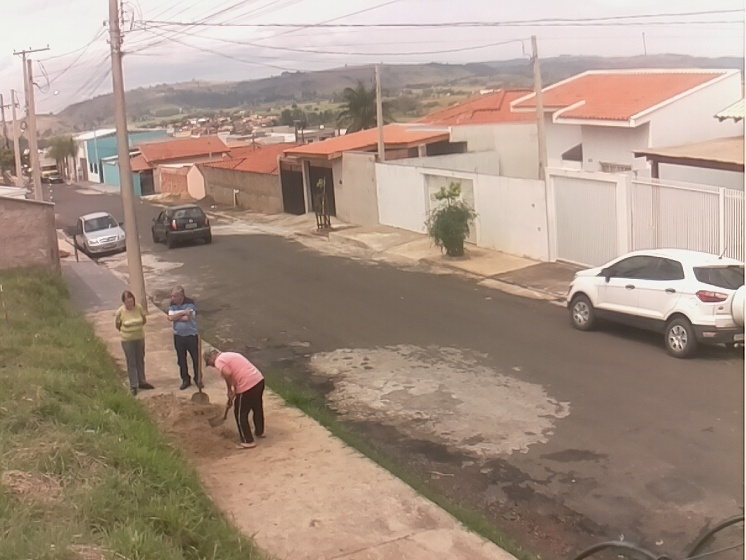person: (202, 347, 268, 449), (166, 286, 208, 391), (114, 290, 154, 396)
